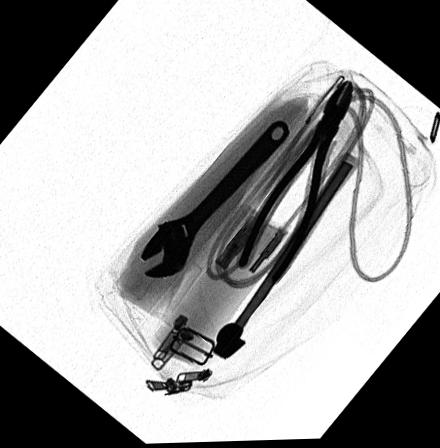Hammer: (209, 153, 364, 361)
Pliers: (235, 78, 355, 287)
Wrench: (140, 120, 289, 281)
